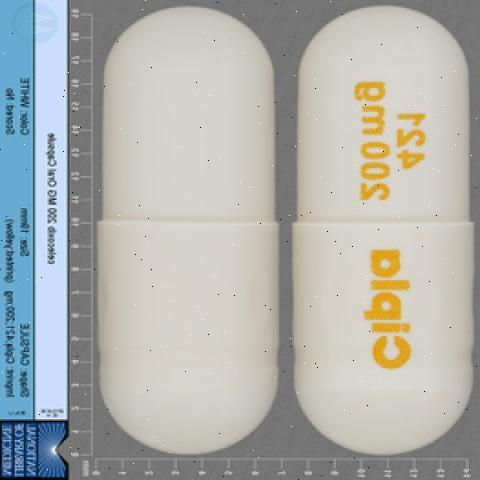Pill: (92, 2, 284, 464), (289, 4, 480, 464)
